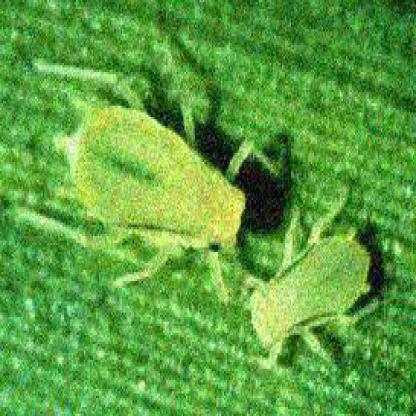schizaphis graminum: (41, 62, 279, 299), (238, 204, 373, 364)
